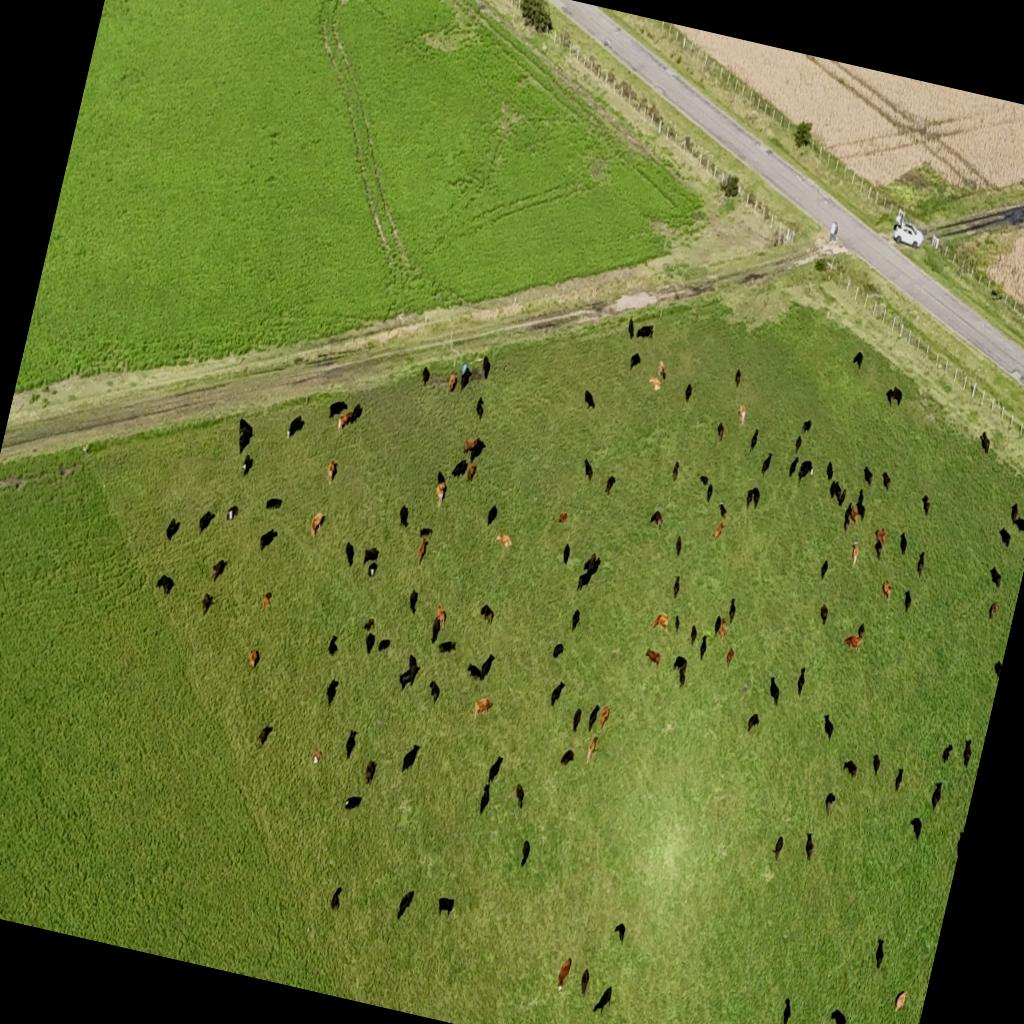cow: (153, 564, 181, 604), (397, 654, 423, 692), (412, 526, 434, 565), (234, 416, 256, 450), (592, 982, 614, 1016), (668, 655, 690, 689), (400, 742, 420, 776), (556, 955, 574, 992), (396, 888, 414, 922), (196, 508, 216, 538), (871, 936, 888, 970), (434, 894, 456, 920), (472, 696, 494, 722), (765, 676, 784, 706), (826, 479, 847, 506), (487, 754, 504, 787), (258, 526, 278, 554), (286, 414, 306, 442), (582, 552, 603, 578), (477, 783, 493, 817), (548, 680, 566, 710), (819, 712, 837, 742), (308, 510, 326, 540), (906, 815, 924, 844), (324, 676, 340, 708), (342, 728, 358, 760), (0, 473, 23, 495), (256, 722, 274, 750), (361, 547, 381, 572), (802, 831, 818, 862), (210, 557, 228, 584), (842, 630, 864, 652), (58, 460, 80, 482), (428, 617, 444, 647), (928, 781, 944, 811), (586, 702, 601, 734), (432, 604, 449, 632), (796, 460, 814, 486), (335, 409, 353, 435), (960, 737, 975, 768), (362, 758, 378, 787), (467, 438, 486, 462), (841, 506, 857, 534), (584, 734, 598, 766), (884, 386, 904, 408), (328, 398, 348, 420), (451, 456, 469, 480), (578, 968, 592, 998), (651, 612, 671, 633), (477, 604, 496, 626), (432, 480, 448, 506), (341, 542, 357, 568), (976, 430, 992, 456), (822, 790, 838, 816), (164, 518, 181, 542), (425, 680, 442, 704), (779, 997, 794, 1024), (329, 885, 344, 912), (597, 704, 612, 731), (635, 322, 655, 342), (342, 792, 362, 812), (986, 567, 1004, 589), (771, 834, 785, 862), (518, 840, 532, 868), (795, 666, 808, 696), (715, 618, 730, 644), (348, 402, 364, 426), (199, 592, 215, 616), (580, 458, 596, 482), (852, 499, 868, 523), (643, 648, 662, 668), (494, 531, 514, 550), (841, 758, 859, 779), (397, 504, 412, 529), (479, 355, 493, 381), (473, 396, 487, 422), (512, 784, 526, 810), (406, 588, 420, 614), (568, 608, 582, 634), (570, 708, 584, 734), (437, 638, 457, 656), (246, 648, 261, 672), (611, 922, 627, 944), (827, 1008, 849, 1024), (654, 360, 670, 382), (892, 767, 905, 794), (240, 453, 254, 478), (894, 988, 908, 1013), (746, 712, 761, 735), (676, 664, 689, 690), (901, 588, 914, 614), (697, 635, 710, 661), (847, 544, 860, 570), (582, 390, 598, 411), (362, 632, 376, 656), (860, 466, 876, 487), (325, 460, 339, 484), (576, 570, 590, 594), (464, 460, 478, 484), (466, 664, 484, 682), (260, 590, 274, 613), (224, 504, 240, 524), (996, 528, 1012, 548), (649, 510, 665, 530), (560, 749, 576, 769), (486, 504, 499, 528), (897, 532, 910, 556), (726, 598, 738, 624), (327, 635, 341, 657), (880, 580, 894, 602), (265, 496, 283, 513), (628, 352, 643, 372), (915, 551, 927, 576), (604, 474, 617, 497), (712, 520, 725, 543), (1010, 515, 1024, 536), (744, 486, 756, 510), (760, 452, 772, 476), (626, 316, 638, 340), (648, 374, 664, 392), (671, 575, 683, 599), (458, 370, 471, 392), (919, 494, 932, 516), (1007, 502, 1020, 524), (446, 372, 459, 394), (940, 743, 953, 765), (869, 754, 882, 776), (560, 543, 572, 566), (749, 428, 760, 453), (818, 604, 830, 626), (987, 600, 999, 622), (872, 538, 884, 560), (824, 460, 836, 482), (788, 455, 799, 479), (724, 646, 735, 670), (688, 624, 699, 647), (736, 403, 748, 424), (819, 558, 830, 580), (670, 460, 681, 482), (420, 366, 432, 386), (377, 638, 392, 654), (852, 350, 864, 370), (880, 471, 892, 491), (418, 526, 434, 541), (836, 488, 848, 508), (310, 750, 323, 768), (683, 382, 694, 403), (715, 422, 726, 443), (712, 615, 722, 637), (716, 502, 728, 520), (552, 642, 564, 660), (674, 536, 684, 557), (794, 433, 804, 454), (801, 418, 813, 435), (366, 562, 378, 579), (733, 368, 743, 388), (992, 660, 1002, 680), (704, 484, 714, 504), (672, 614, 682, 634), (363, 617, 375, 632), (856, 623, 866, 640), (698, 474, 710, 486), (558, 511, 568, 525)
